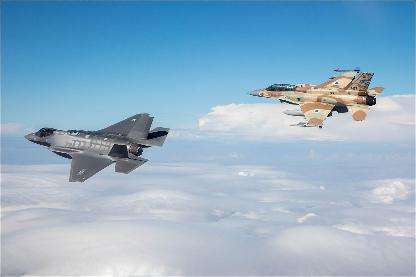F14: (242, 67, 386, 129)
F22: (22, 113, 170, 182)
